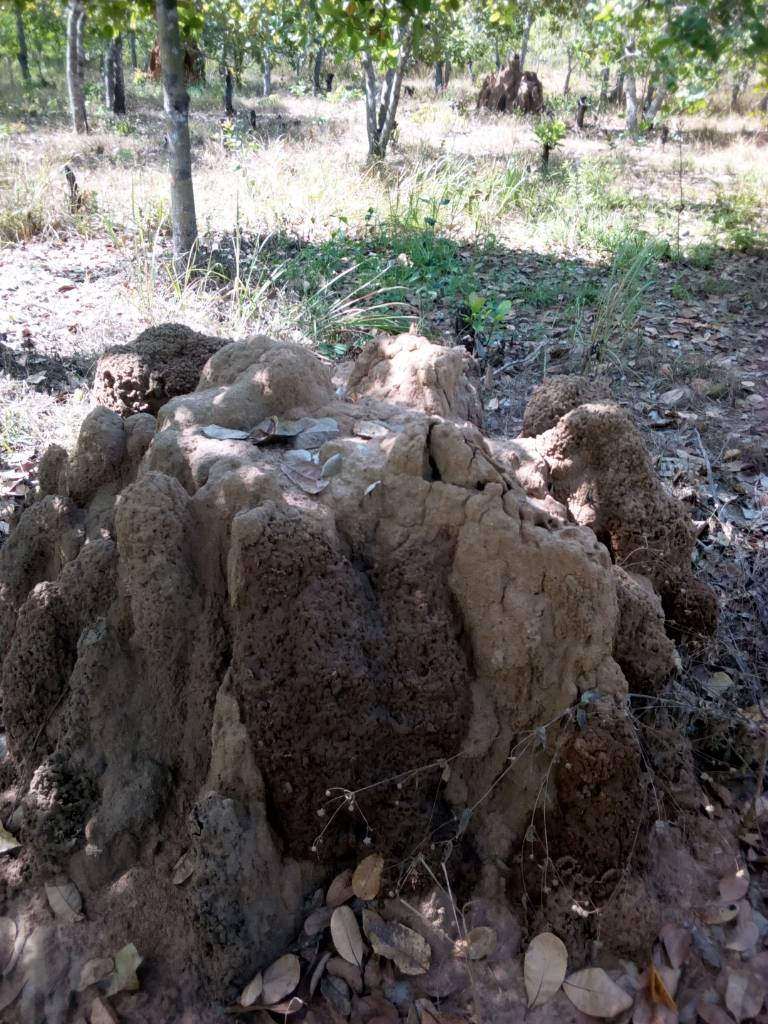Termites: (200, 497, 641, 889), (1, 430, 190, 907), (202, 341, 586, 492)
